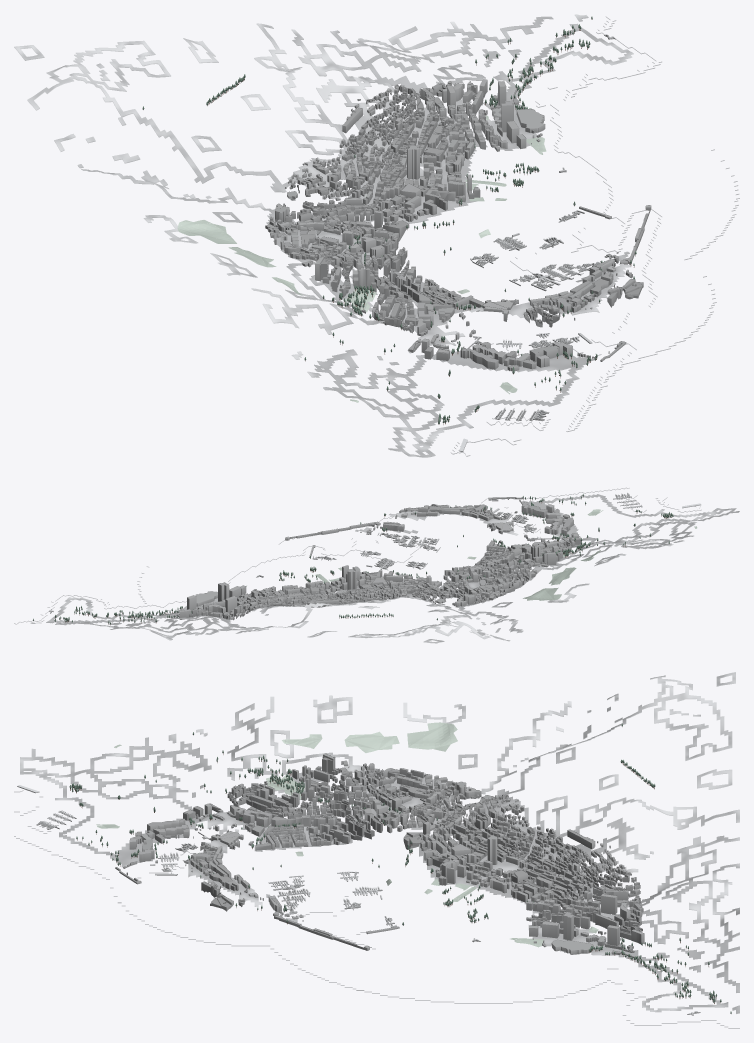
The model's file is city.glb.
3 renders of one model, top to bottom at view 1: azimuth 30°, elevation 25°; view 2: azimuth 150°, elevation 25°; view 3: azimuth 270°, elevation 25°, orthographic. The views are drawn at different scales.
Visible parts, largest first — view 1: building, terrain, model, park, prop, pier, propDark; view 2: building, terrain, model, prop, park, pier, propDark; view 3: building, terrain, park, model, prop, pier.
Part boxes in pixels (box(x1,y1,x2,y2)): building: box(265, 79, 651, 371); terrain: box(14, 14, 739, 457); model: box(142, 16, 636, 424); park: box(177, 115, 546, 402); prop: box(472, 34, 615, 420); pier: box(459, 36, 617, 451); propDark: box(471, 35, 614, 419); building: box(159, 497, 582, 620); terrain: box(14, 487, 739, 643); model: box(33, 494, 673, 625); prop: box(50, 492, 629, 613); park: box(239, 509, 697, 600); pier: box(49, 496, 701, 611); propDark: box(51, 495, 630, 611); building: box(115, 753, 644, 960); terrain: box(14, 672, 739, 1028); park: box(96, 722, 598, 947); model: box(69, 723, 731, 1013); prop: box(36, 821, 700, 1014); pier: box(17, 785, 693, 1015).
Size of the model in its own units: 2576 by 460 by 2968.
